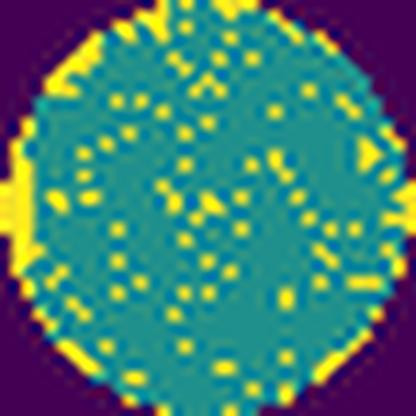Edge-Loc: (0, 112, 49, 285), (40, 30, 110, 102), (384, 180, 415, 237), (139, 0, 170, 52), (209, 0, 269, 20)
